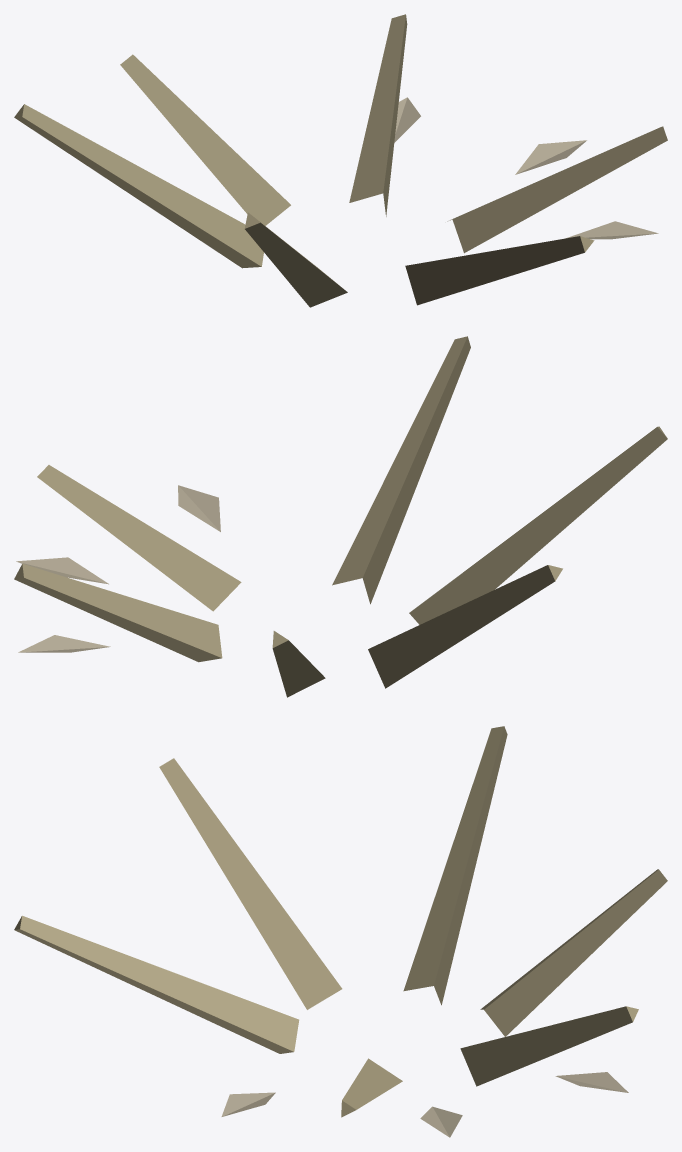
File: cao.hanji@withered__summer.glb
3 views of the same model, one above another, from view 1: azimuth 30°, elevation 25°; view 2: azimuth 150°, elevation 25°; view 3: azimuth 270°, elevation 25° (orthographic). The views are drawn at different scales.
Visible parts, largest first — view 1: cao.hanji@withered__summer; view 2: cao.hanji@withered__summer; view 3: cao.hanji@withered__summer.
Boxes of the visible parts, x1,y1,x2,y2 form: cao.hanji@withered__summer: (14, 14, 667, 307); cao.hanji@withered__summer: (14, 336, 667, 697); cao.hanji@withered__summer: (14, 726, 667, 1137).
Size of the model in its own units: 0.7461 by 0.237 by 0.7348.
